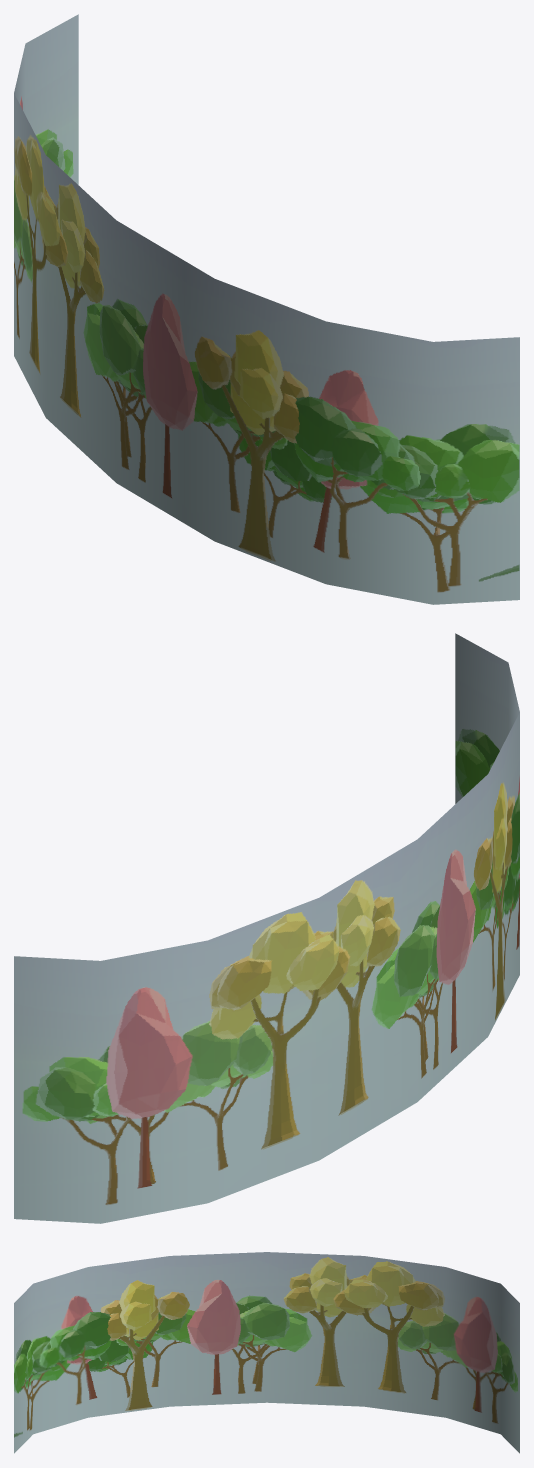
The model's file is wall-tree.fbx.
3 renders of one model, top to bottom at view 1: azimuth 30°, elevation 25°; view 2: azimuth 150°, elevation 25°; view 3: azimuth 270°, elevation 25°, orthographic. The views are drawn at different scales.
Parts seen in each view (by area): view 1: Cylinder; view 2: Cylinder; view 3: Cylinder.
Boxes of the visible parts, box(x1,y1,x2,y2) form: Cylinder: box(14, 14, 519, 604); Cylinder: box(14, 633, 519, 1223); Cylinder: box(14, 1252, 519, 1453).
Size of the model in its own units: 977 by 1342 by 4083.
